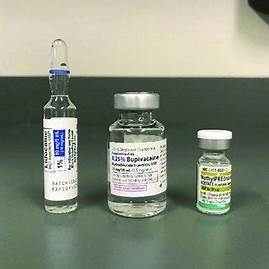Syringe: (104, 87, 172, 223), (42, 36, 82, 214), (194, 128, 234, 220)
